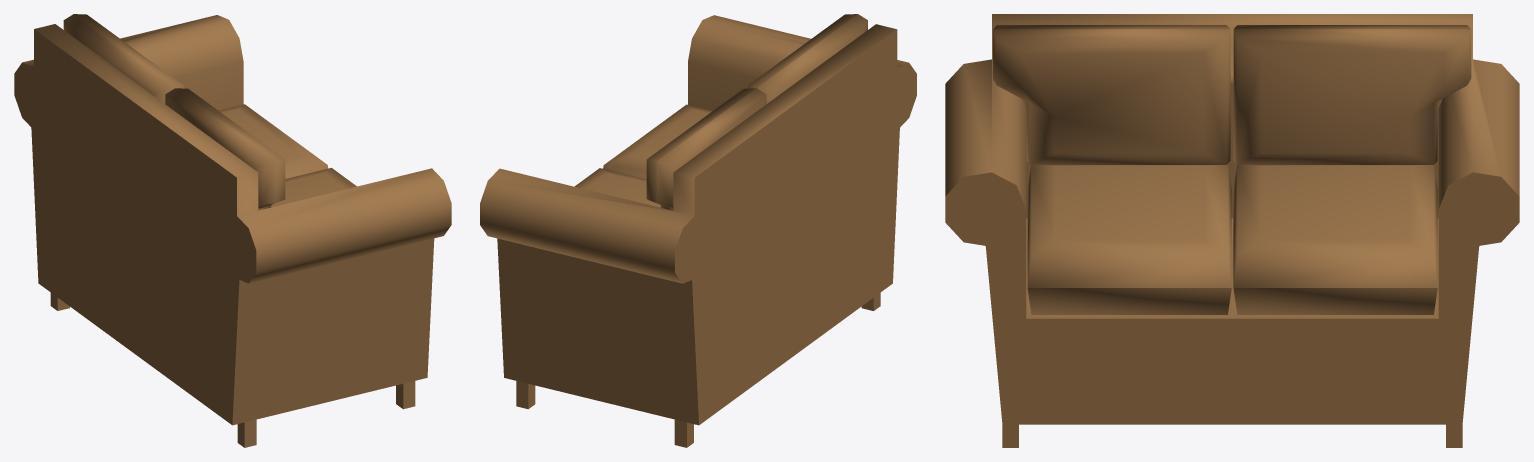
The picture shows the model from 3 angles, left to right: view 1: azimuth 30°, elevation 25°; view 2: azimuth 150°, elevation 25°; view 3: azimuth 270°, elevation 25°; orthographic projection. The views are drawn at different scales.
Visible parts, largest first — view 1: Mesh9_ske398D1_Model; view 2: Mesh9_ske398D1_Model; view 3: Mesh9_ske398D1_Model.
Part boxes in pixels (bbox=[...]): Mesh9_ske398D1_Model: bbox=[14, 14, 451, 447]; Mesh9_ske398D1_Model: bbox=[480, 14, 916, 447]; Mesh9_ske398D1_Model: bbox=[945, 14, 1519, 447].
Bounding box in the file's own units: 0.4712 × 0.6446 × 1.
